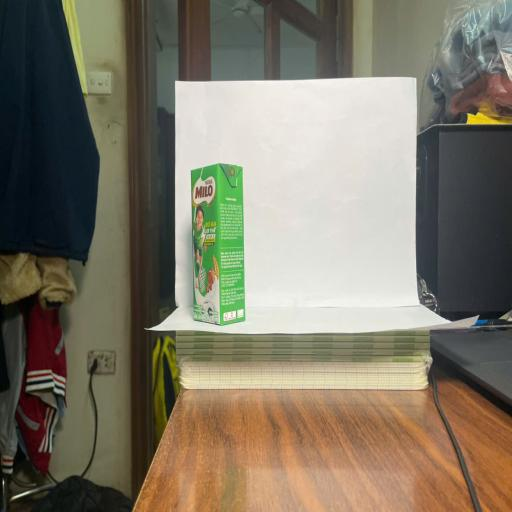milo: (192, 164, 244, 325)
